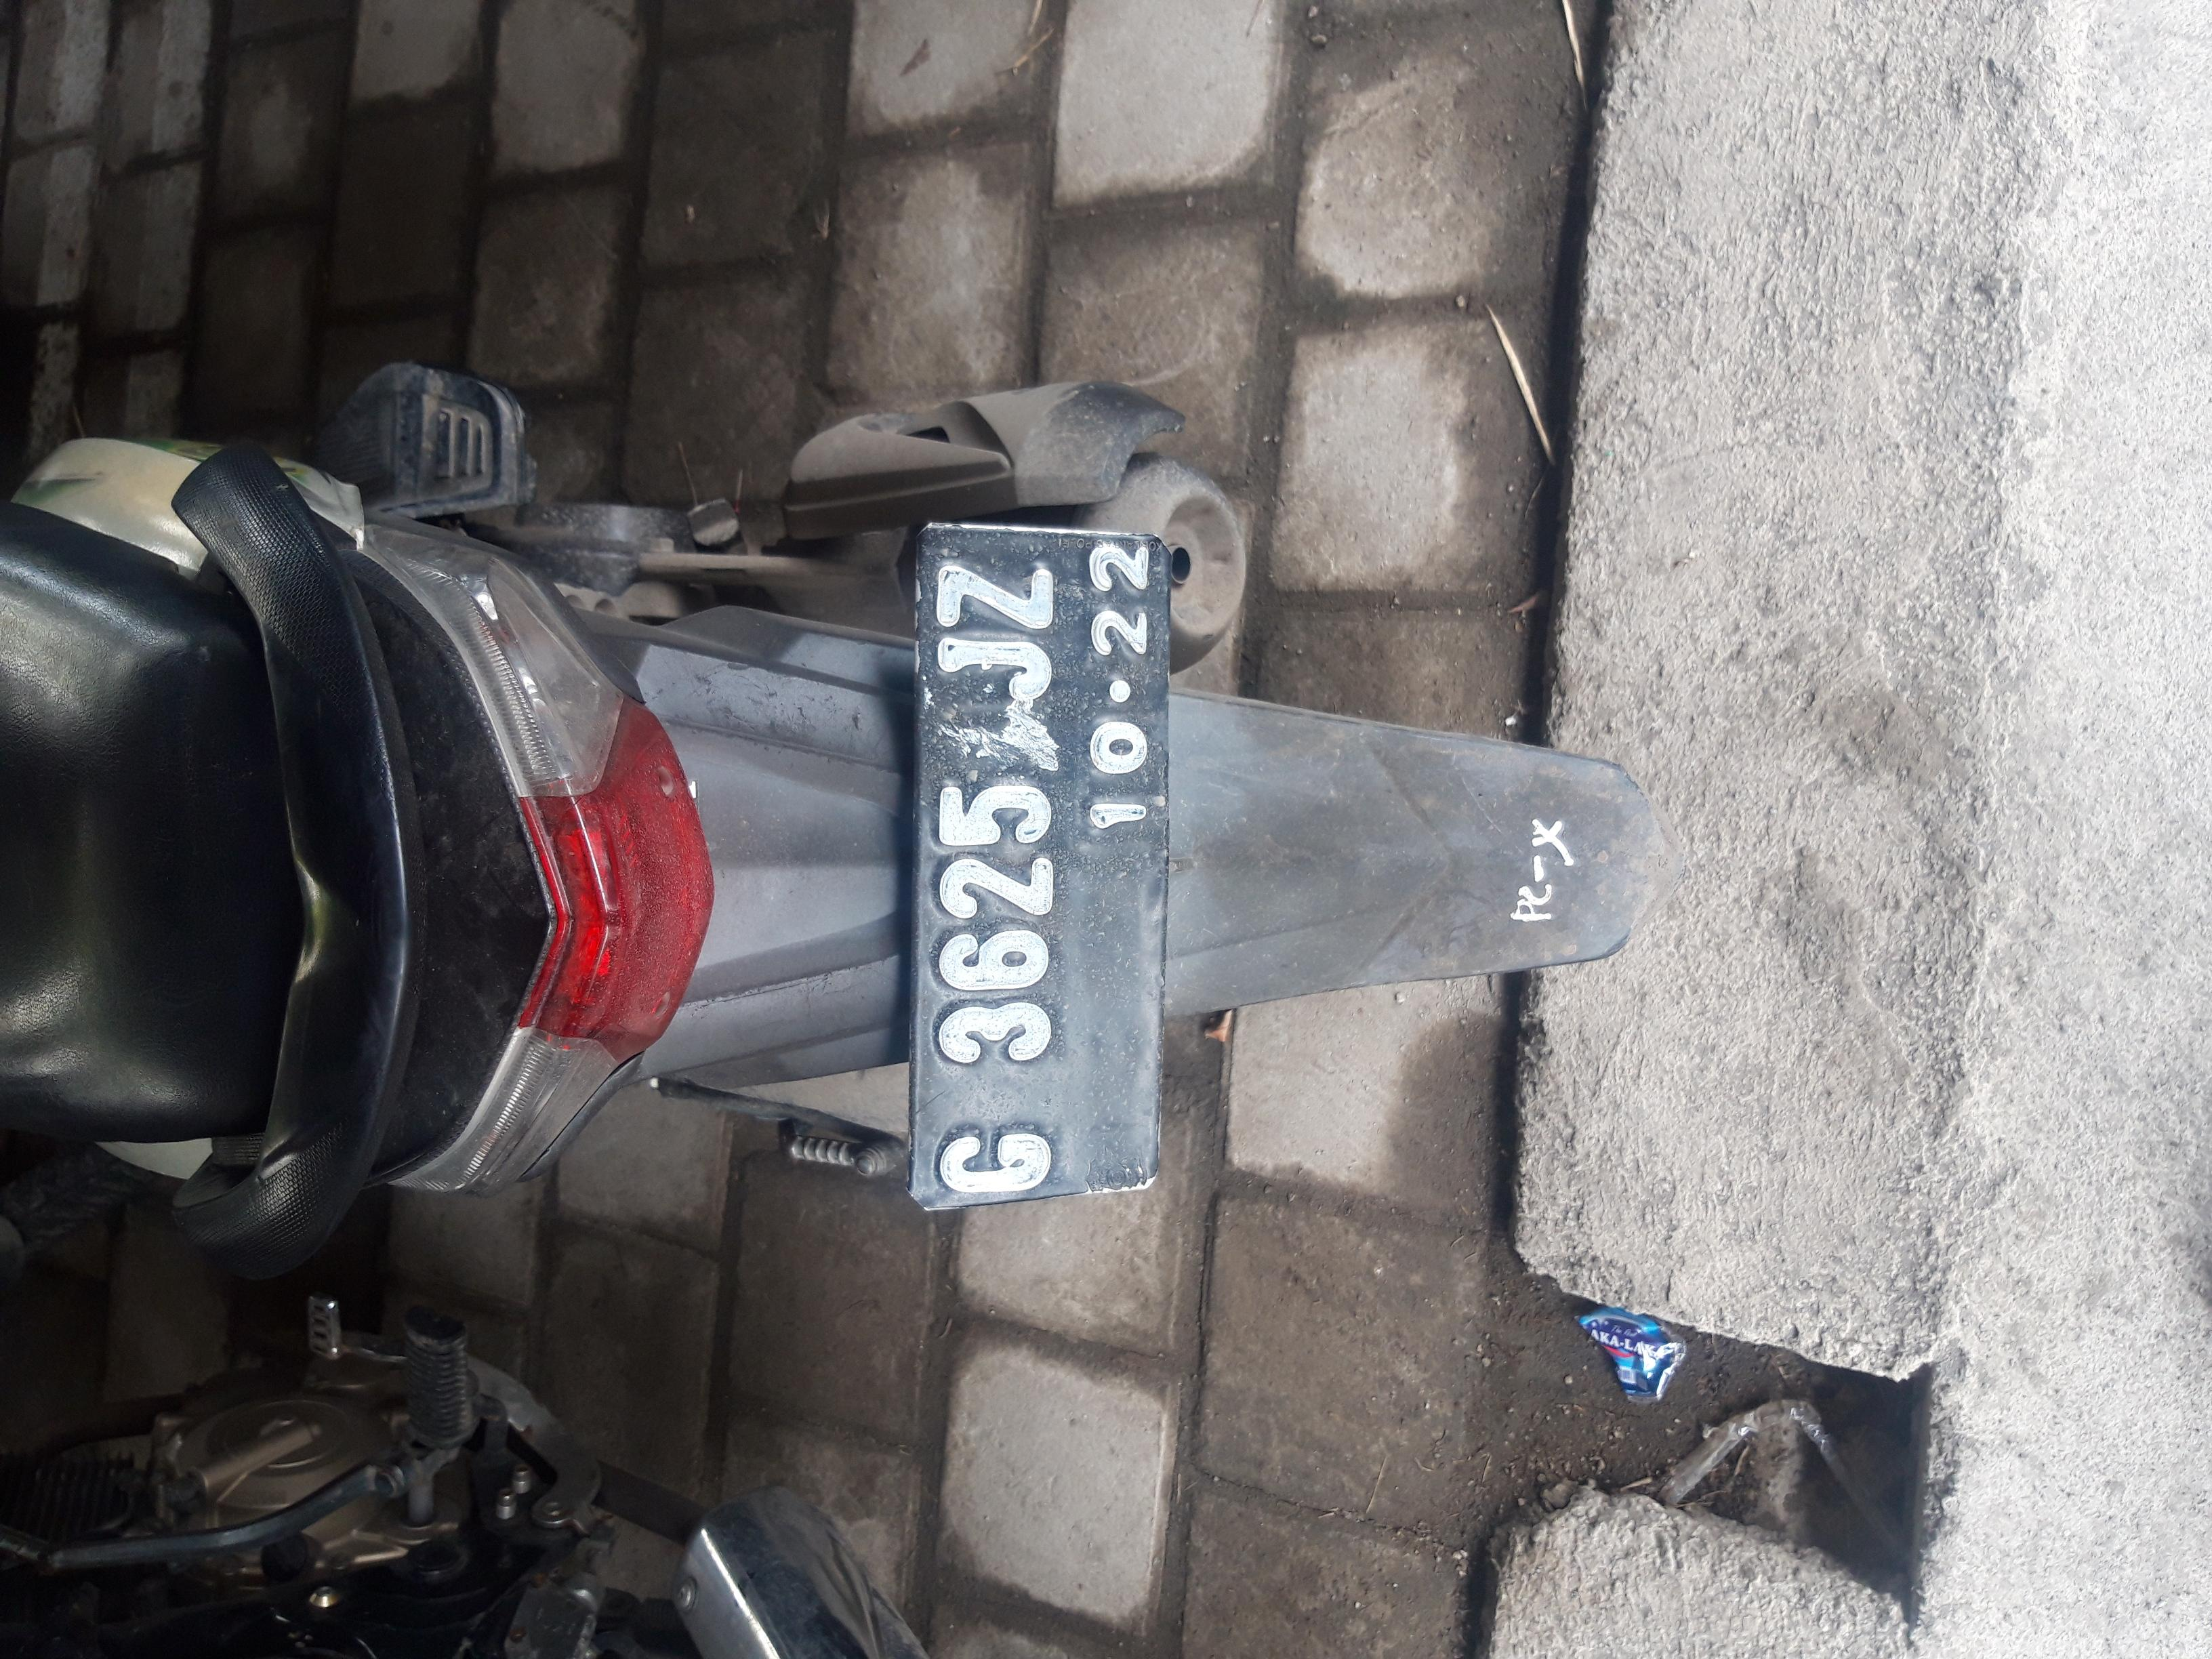plat: (599, 680, 1515, 878)
